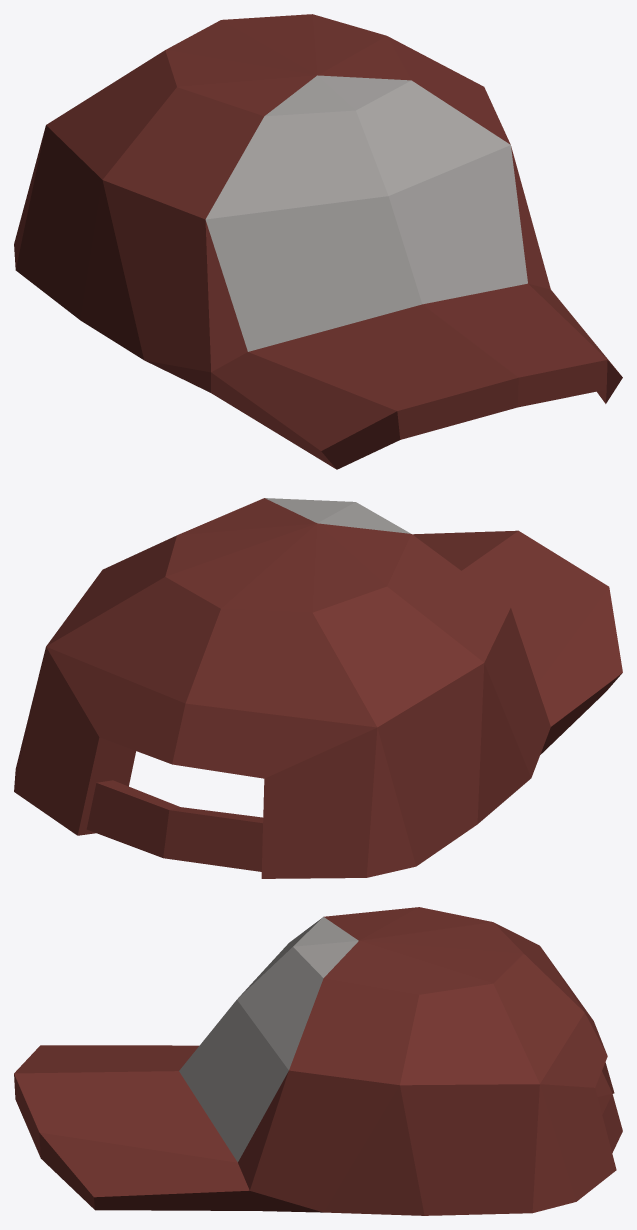
File: SM_Chr_Attach_Hat_01.fbx
The picture shows the model from 3 angles, top to bottom: view 1: azimuth 30°, elevation 25°; view 2: azimuth 150°, elevation 25°; view 3: azimuth 270°, elevation 25°; orthographic projection. The views are drawn at different scales.
Visible parts, largest first — view 1: SM_Chr_Attach_Hat_01; view 2: SM_Chr_Attach_Hat_01; view 3: SM_Chr_Attach_Hat_01.
Boxes of the visible parts, bbox=[...] form: SM_Chr_Attach_Hat_01: bbox=[14, 14, 622, 469]; SM_Chr_Attach_Hat_01: bbox=[14, 498, 622, 878]; SM_Chr_Attach_Hat_01: bbox=[14, 907, 622, 1215].
Bounding box in the file's own units: 27.4 × 16.26 × 42.11.
